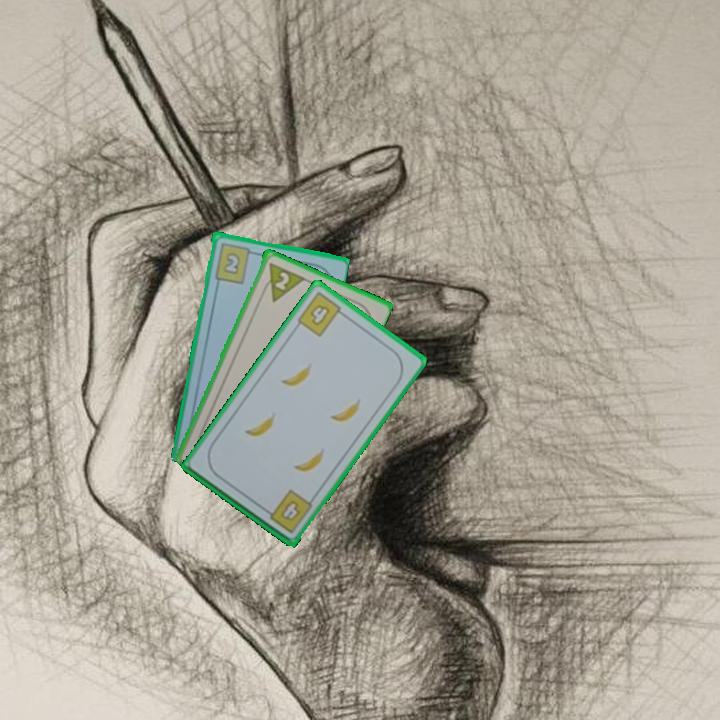2b: (211, 239, 258, 286)
2p: (256, 258, 306, 304)
4b: (294, 288, 349, 340), (261, 486, 315, 536)
